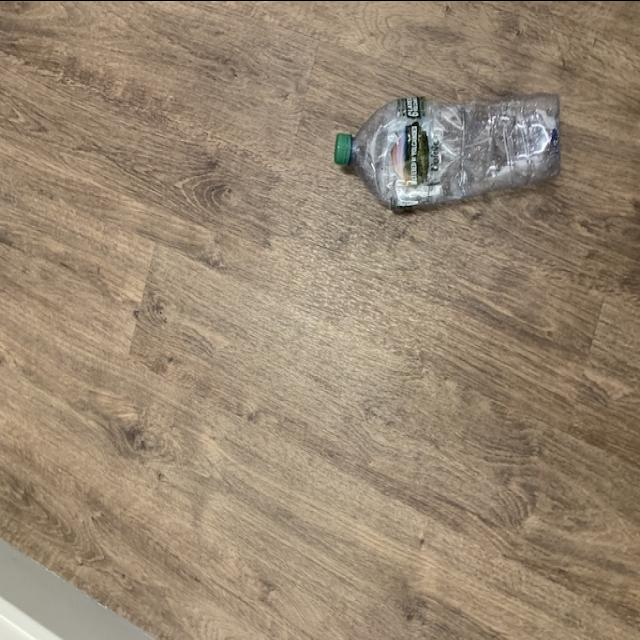PET: (330, 82, 562, 210)
